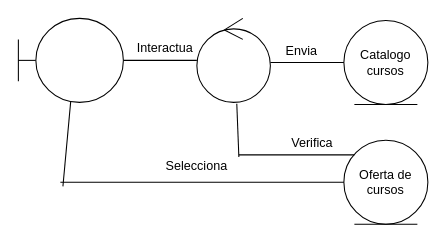
The diagram is 446 pixels wide and 243 high, and some of its shapes have lost their labels. Each missing label, with the box of its shape:
Estudiante: (17, 17, 123, 102)
Sistema de registro: (196, 17, 270, 102)
